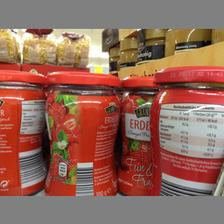Marmelade: (151, 66, 223, 196), (44, 70, 116, 194), (0, 69, 46, 195), (116, 75, 156, 195)
